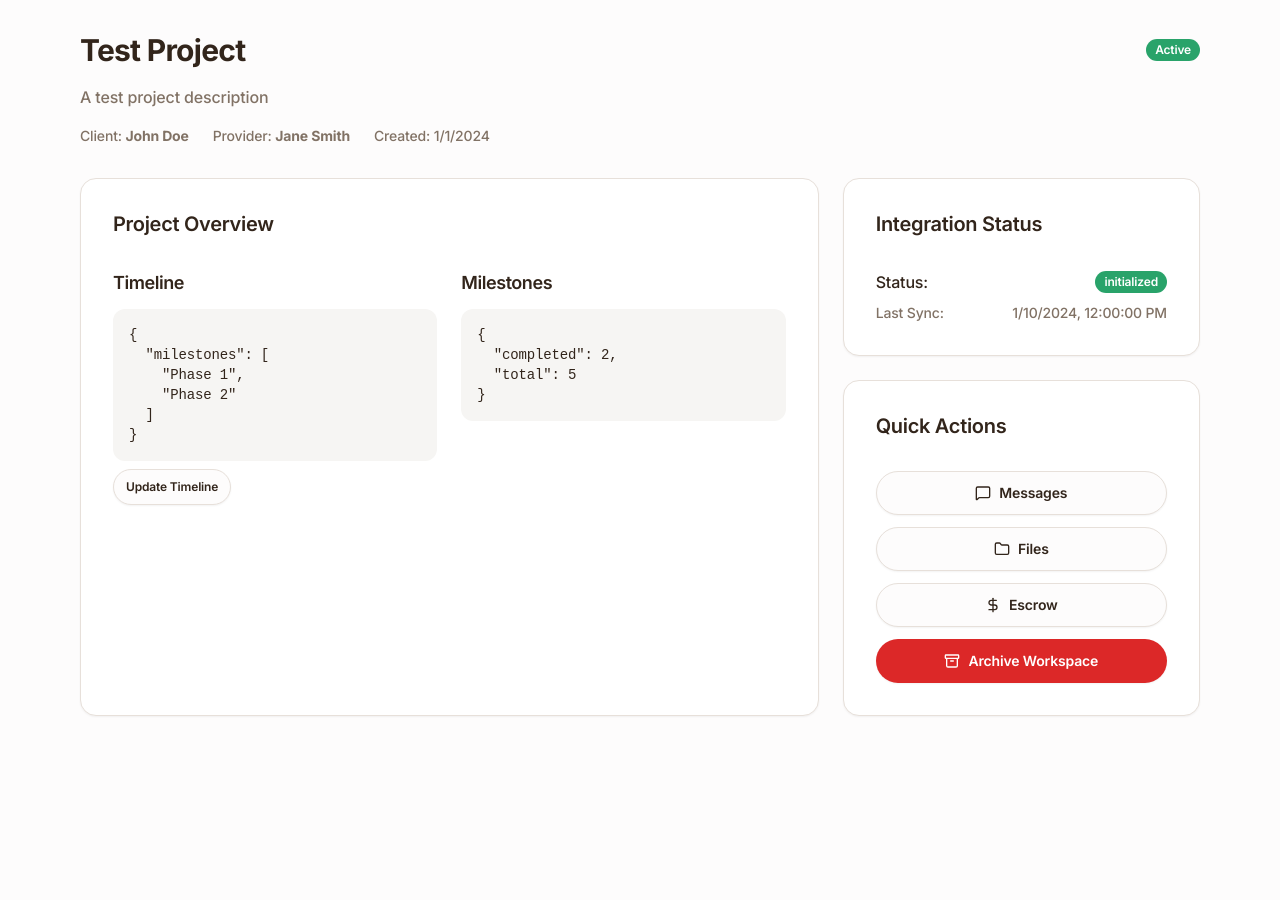
Test case: WorkspaceDashboard › Update Timeline › displays error when timeline update fails
Click the button "Update Timeline".
click(172, 487)  # box [113, 469, 231, 505]
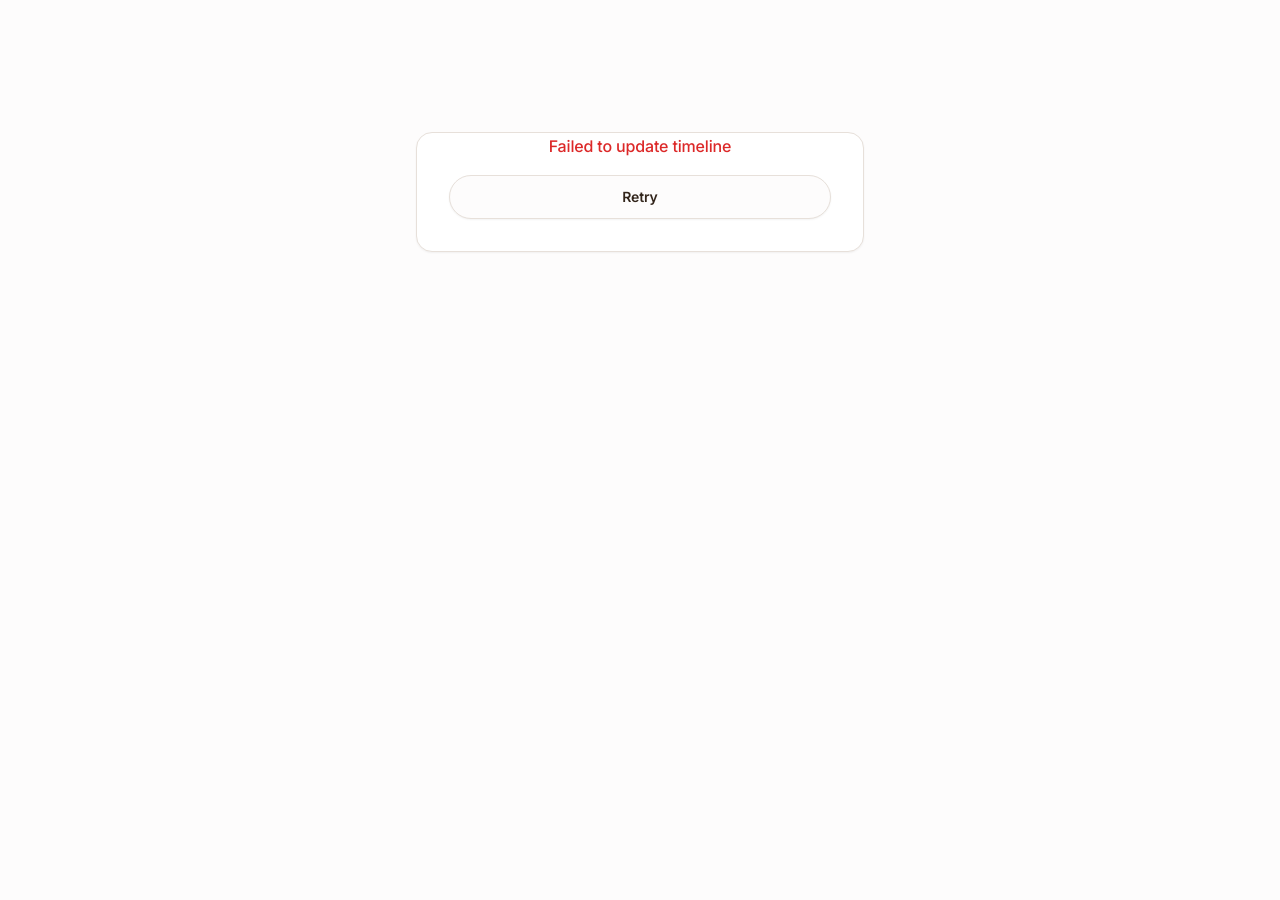
expect the text "Failed to update timeline" is shown: met, box [549, 136, 731, 156]
